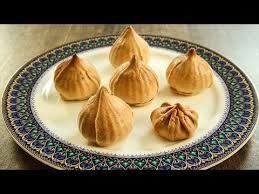modak: (74, 87, 139, 143), (108, 56, 167, 108), (167, 46, 220, 99), (141, 92, 198, 139), (103, 24, 158, 69), (57, 53, 103, 98)
